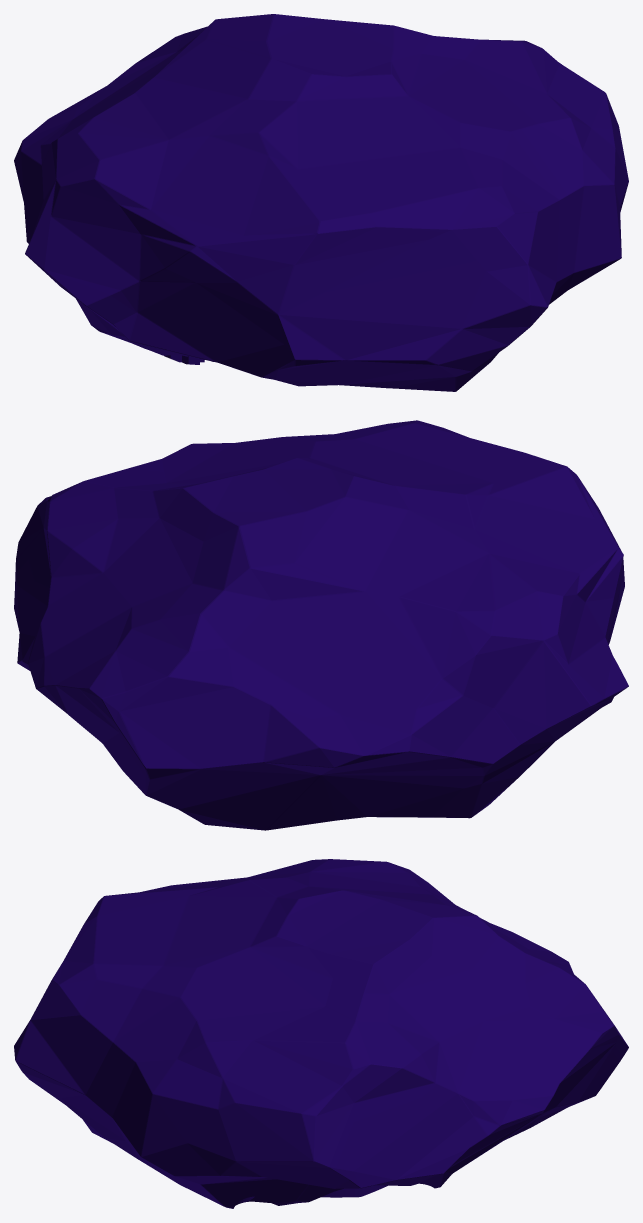
The picture shows the model from 3 angles, top to bottom: view 1: azimuth 30°, elevation 25°; view 2: azimuth 150°, elevation 25°; view 3: azimuth 270°, elevation 25°; orthographic projection. The views are drawn at different scales.
Visible parts, largest first — view 1: Cube.007; view 2: Cube.007; view 3: Cube.007.
Part boxes in pixels (x1,y1,x2,y2): Cube.007: [14, 14, 628, 391]; Cube.007: [14, 420, 628, 830]; Cube.007: [14, 859, 628, 1208].
Size of the model in its own units: 2 by 0.936 by 2.04.
